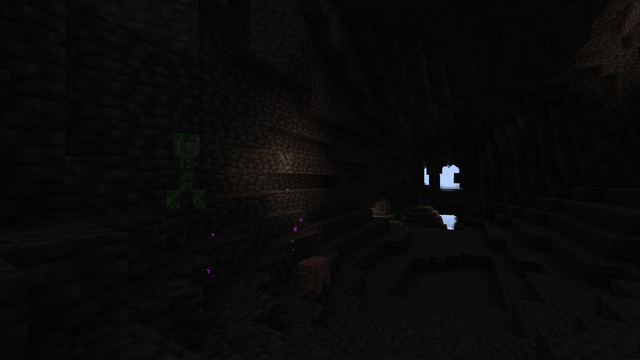cochons: (297, 254, 333, 293)
creepers: (164, 128, 205, 209)
